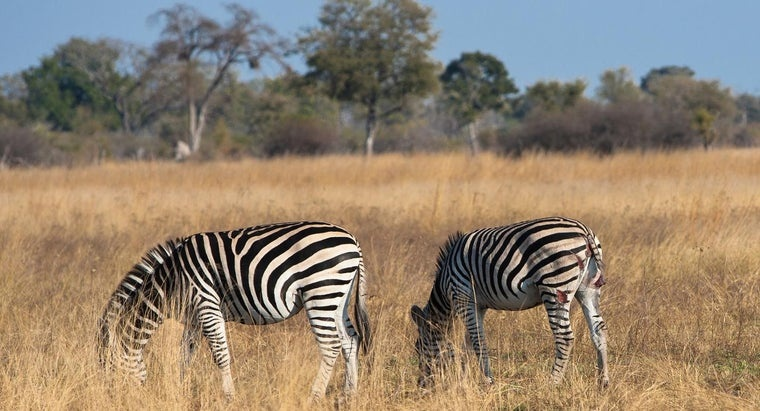zebra: (91, 219, 372, 404), (407, 210, 615, 391)
